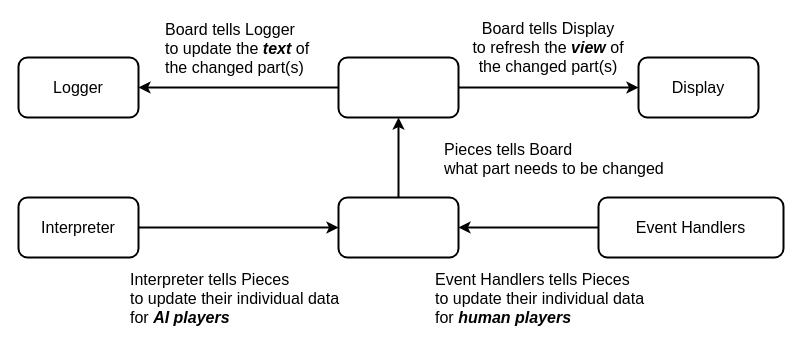
Image size: 801x345. Some labels were removed from this diagram. The shapes that lost their labels are listed below. From the top down, each one's centre as x and y in pixels, then its label:
At [398,87]: "Board".
At [398,227]: "Pieces".
